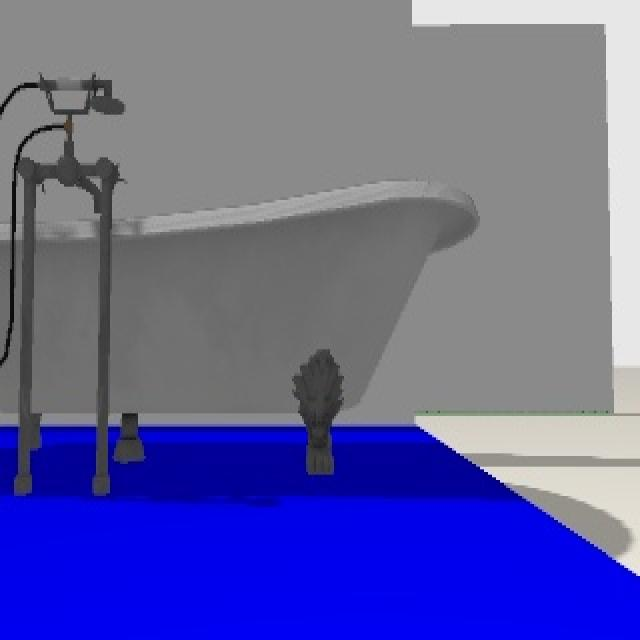bathtub: (3, 72, 485, 489)
